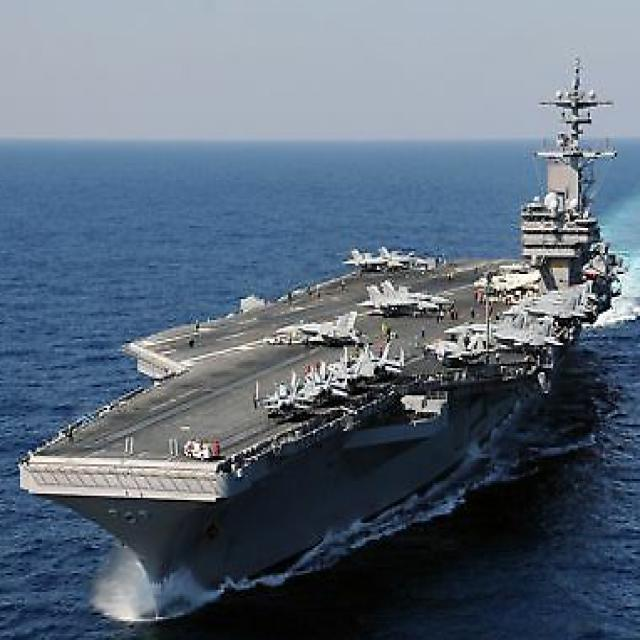navalvessels: (52, 72, 630, 590)
